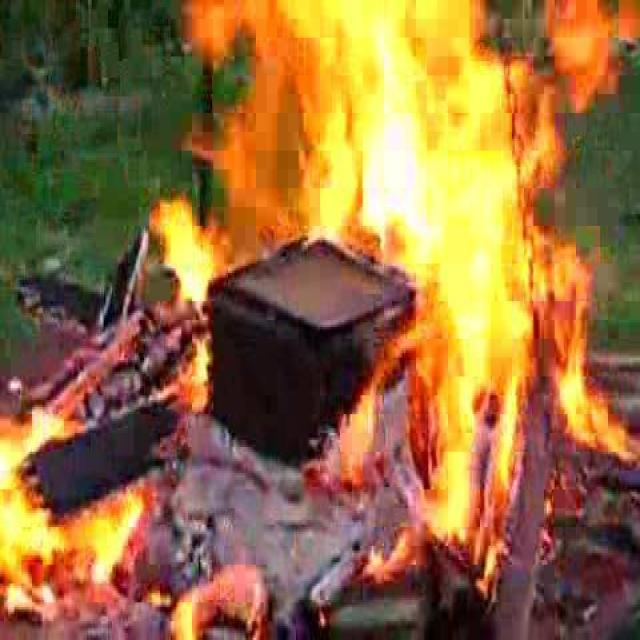fire: (140, 1, 628, 522), (0, 377, 204, 636)
